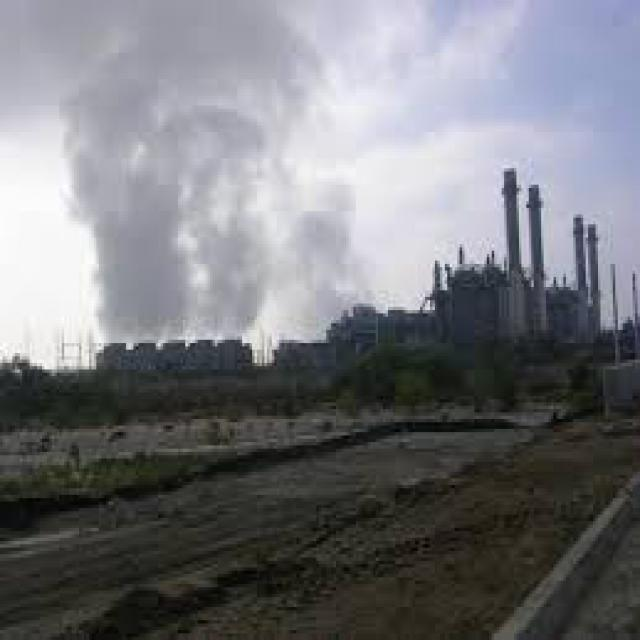smoke: (64, 3, 371, 340)
